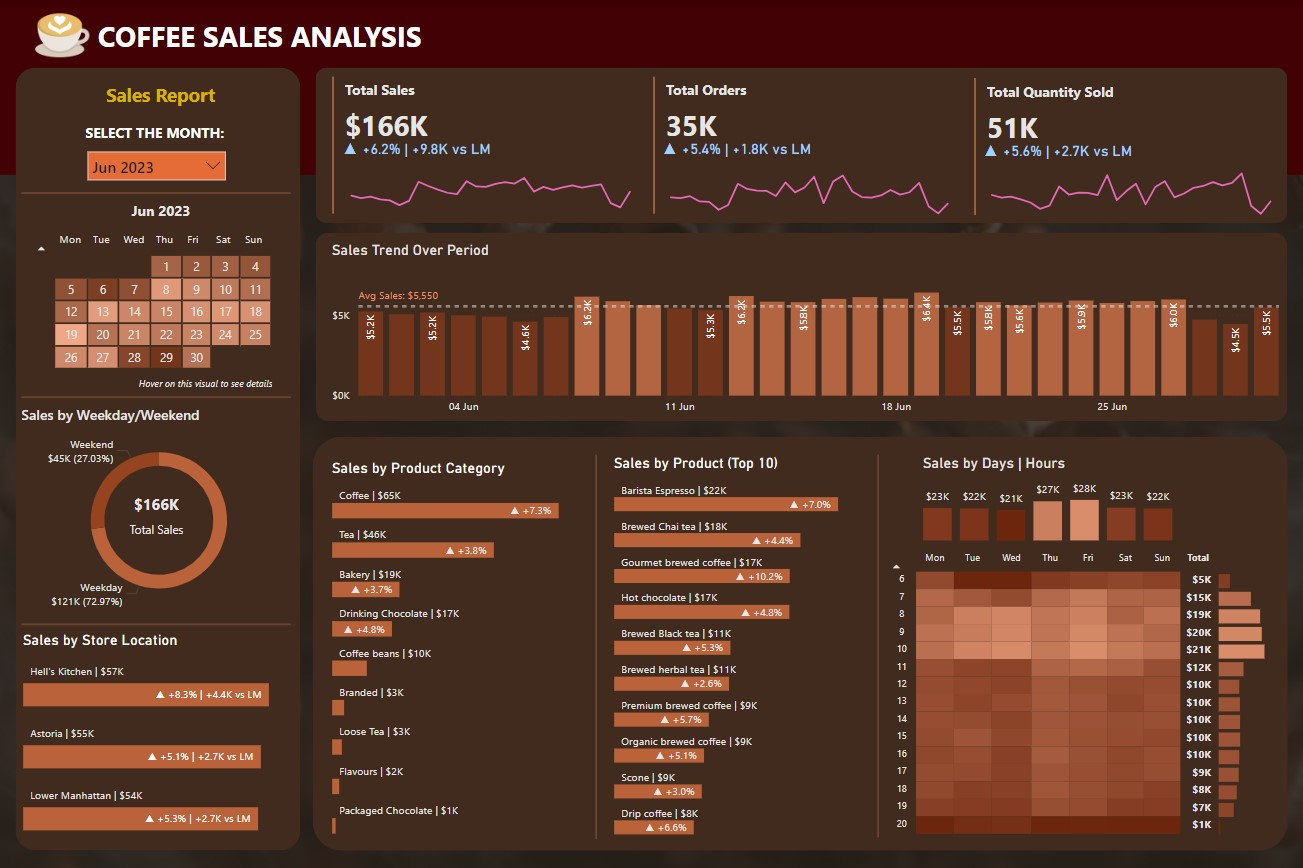

This screenshot's page, from the dashboard's own definition file:
{"tool":"powerbi","page":{"name":"Dashboard","canvas":[1500,1000],"ordinal":0},"visuals":[{"type":"shape","box":[0,0,1500,200],"z":0},{"type":"shape","box":[22,78,326,896],"z":1000},{"type":"shape","box":[366,78,1112,178],"z":2000},{"type":"textbox","box":[112,14,400,74],"z":3000},{"type":"cardVisual","fields":{"Data":["Table.Total Sales"]},"box":[380,82,359.9,167.2],"z":4000,"group":"g3"},{"type":"cardVisual","fields":{"Data":["Table.Total Orders"]},"box":[747,82,360,167.8],"z":4000,"group":"g2"},{"type":"cardVisual","fields":{"Data":["Table.Total Quantity"]},"box":[1114,84,360,167.8],"z":4000,"group":"g1"},{"type":"slicer","fields":{"Values":["DateTable.MonthYear"]},"box":[100,168,168,52],"z":4000},{"type":"cardVisual","fields":{"Data":["Min(DateTable.MonthYear)"]},"box":[136,210,106,56],"z":5000},{"type":"group","id":"g1","title":"Group 1","box":[1114,84,360,168],"z":6000},{"type":"lineChart","fields":{"Category":["DateTable.Date"],"Y":["Table.Total Orders"]},"box":[757.6,158.6,346.8,91.4],"z":6000,"group":"g2"},{"type":"lineChart","fields":{"Category":["DateTable.Date"],"Y":["Table.Total Sales"]},"box":[391.3,158.9,348.7,91.1],"z":6000,"group":"g3"},{"type":"lineChart","fields":{"Category":["DateTable.Date"],"Y":["Table.Total Quantity"]},"box":[1124.6,160.6,348.8,91.4],"z":6000,"group":"g1"},{"type":"pivotTable","fields":{"Rows":["DateTable.Weeknum"],"Columns":["DateTable.Weekday"],"Values":["Min(DateTable.Day)"]},"box":[38,258,292,196],"z":7000},{"type":"cardVisual","fields":{"Data":["Table.Footnote"]},"box":[149.9,408.8,181.7,56],"z":8000},{"type":"shape","box":[29.8,445.5,308,16.6],"z":9000},{"type":"shape","box":[30,212,308,16],"z":10000},{"type":"donutChart","title":"Sales by Weekday/Weekend","fields":{"Y":["Table.Total Sales"],"Category":["DateTable.WeekType"]},"box":[24,464,324,242],"z":11000},{"type":"cardVisual","fields":{"Data":["Table.Total Sales"]},"box":[112,548,144,76],"z":12000},{"type":"group","id":"g2","title":"Group 1","box":[747,82,360,168],"z":13000},{"type":"group","id":"g3","title":"Group 1","box":[380,82,360,168],"z":14000},{"type":"shape","box":[30,706,308,18],"z":15000},{"type":"clusteredBarChart","title":"Sales by Store Location","fields":{"Category":["Transactions.store_location"],"Y":["Table.Placeholder","Table.Total Sales"]},"box":[26,722,318,236],"z":16000},{"type":"shape","box":[366,266,1112,216],"z":17000},{"type":"clusteredColumnChart","title":"Sales Trend Over Period","fields":{"Category":["Transactions.transaction_date"],"Y":["Table.Total Sales"]},"box":[380,276,1098,206],"z":18000},{"type":"shape","box":[362,500,1116,474],"z":19000},{"type":"clusteredBarChart","title":"Sales by Product Category","fields":{"Category":["Transactions.product_category"],"Y":["Table.Placeholder","Table.Total Sales"]},"box":[380,526,300,434],"z":20000},{"type":"shape","box":[680,520,14,440],"z":21000},{"type":"clusteredBarChart","title":"Sales by Product (Top 10)","fields":{"Y":["Table.Placeholder","Table.Total Sales"],"Category":["Transactions.product_type"]},"box":[702,520,300,440],"z":22000},{"type":"shape","box":[1002,520,14,438],"z":23000},{"type":"pivotTable","fields":{"Rows":["Transactions.Hour"],"Columns":["DateTable.Weekday"],"Values":["Table.Total Sales"]},"box":[1016,624,402,336],"z":24000},{"type":"barChart","fields":{"Y":["Table.Total Sales"],"Category":["Transactions.Hour"]},"box":[1394,644,84,316],"z":25000},{"type":"columnChart","title":"Sales by Days | Hours","fields":{"Y":["Table.Total Sales"],"Category":["DateTable.Weekday"]},"box":[1056,520,296,104],"z":26000},{"type":"textbox","box":[102,88,174,58],"z":27000},{"type":"textbox","box":[76,136,212,42],"z":28000},{"type":"image","box":[40,4,72,74],"z":29000}]}

Visuals, with their boxes in screenshot pixels (x1, y1, x2, y2), scaled from the page's 1500x1000 canvas onto the 1303x868 screenshot:
shape: bbox=(0, 0, 1302, 174)
shape: bbox=(19, 68, 302, 845)
shape: bbox=(318, 68, 1284, 222)
textbox: bbox=(97, 12, 445, 76)
cardVisual - Table.Total Sales: bbox=(330, 71, 643, 216)
cardVisual - Table.Total Orders: bbox=(649, 71, 962, 217)
cardVisual - Table.Total Quantity: bbox=(968, 73, 1280, 219)
slicer - DateTable.MonthYear: bbox=(87, 146, 233, 191)
cardVisual - Min(DateTable.MonthYear): bbox=(118, 182, 210, 231)
"Group 1" group: bbox=(968, 73, 1280, 219)
lineChart - DateTable.Date x Table.Total Orders: bbox=(658, 138, 959, 217)
lineChart - DateTable.Date x Table.Total Sales: bbox=(340, 138, 643, 217)
lineChart - DateTable.Date x Table.Total Quantity: bbox=(977, 139, 1280, 219)
pivotTable - DateTable.Weeknum x DateTable.Weekday: bbox=(33, 224, 287, 394)
cardVisual - Table.Footnote: bbox=(130, 355, 288, 403)
shape: bbox=(26, 387, 293, 401)
shape: bbox=(26, 184, 294, 198)
"Sales by Weekday/Weekend" donutChart: bbox=(21, 403, 302, 613)
cardVisual - Table.Total Sales: bbox=(97, 476, 222, 542)
"Group 1" group: bbox=(649, 71, 962, 217)
"Group 1" group: bbox=(330, 71, 643, 217)
shape: bbox=(26, 613, 294, 628)
"Sales by Store Location" clusteredBarChart: bbox=(23, 627, 299, 832)
shape: bbox=(318, 231, 1284, 418)
"Sales Trend Over Period" clusteredColumnChart: bbox=(330, 240, 1284, 418)
shape: bbox=(314, 434, 1284, 845)
"Sales by Product Category" clusteredBarChart: bbox=(330, 457, 591, 833)
shape: bbox=(591, 451, 603, 833)
"Sales by Product (Top 10)" clusteredBarChart: bbox=(610, 451, 870, 833)
shape: bbox=(870, 451, 883, 832)
pivotTable - Transactions.Hour x DateTable.Weekday: bbox=(883, 542, 1232, 833)
barChart - Table.Total Sales x Transactions.Hour: bbox=(1211, 559, 1284, 833)
"Sales by Days | Hours" columnChart: bbox=(917, 451, 1174, 542)
textbox: bbox=(89, 76, 240, 127)
textbox: bbox=(66, 118, 250, 155)
image: bbox=(35, 3, 97, 68)
